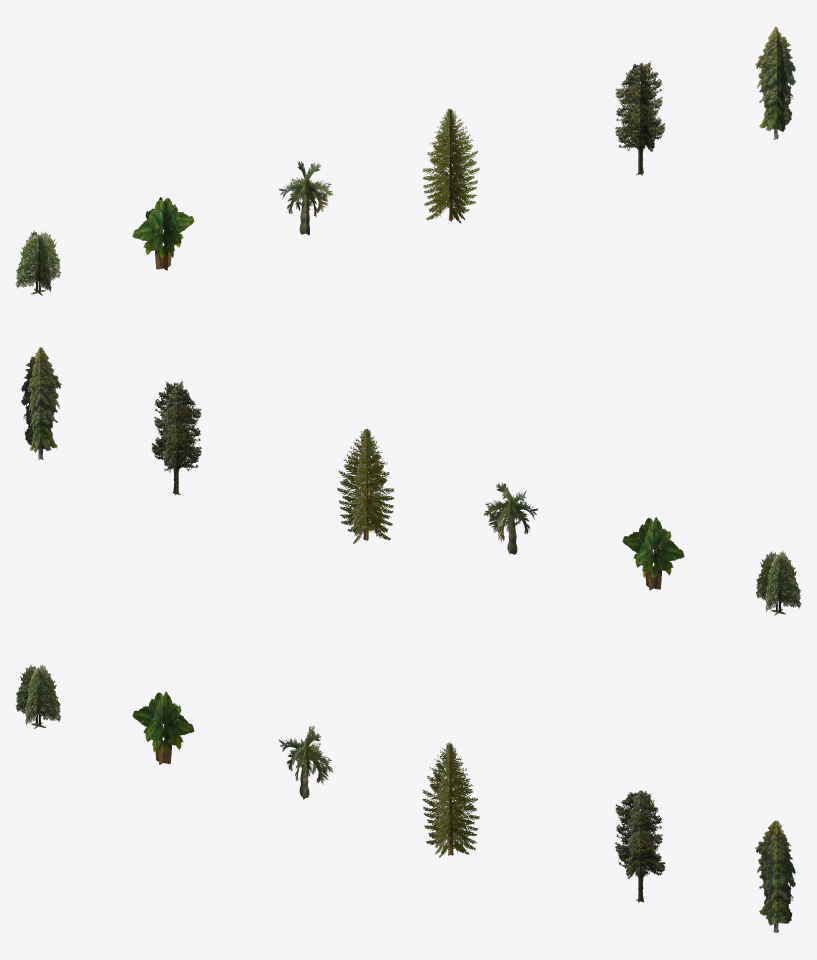
Rendered from Tree.fbx.
3 views of the same model, one above another, from view 1: azimuth 30°, elevation 25°; view 2: azimuth 150°, elevation 25°; view 3: azimuth 330°, elevation 25° (orthographic).
Parts seen in each view (by area): view 1: polySurface9, polySurface39, polySurface40, polySurface23, polySurface31, polySurface17; view 2: polySurface9, polySurface39, polySurface40, polySurface23, polySurface31, polySurface17; view 3: polySurface9, polySurface39, polySurface40, polySurface23, polySurface31, polySurface17.
Part boxes in pixels (box(x1,y1,x2,y2)): polySurface9: box(422, 108, 479, 223); polySurface39: box(615, 61, 665, 175); polySurface40: box(755, 26, 795, 139); polySurface23: box(132, 197, 194, 270); polySurface31: box(15, 230, 60, 295); polySurface17: box(278, 161, 333, 235); polySurface9: box(337, 429, 394, 543); polySurface39: box(151, 379, 201, 495); polySurface40: box(21, 347, 61, 460); polySurface23: box(622, 517, 684, 590); polySurface31: box(756, 550, 801, 615); polySurface17: box(483, 482, 538, 554); polySurface9: box(422, 742, 479, 857); polySurface39: box(615, 790, 665, 902); polySurface40: box(755, 820, 795, 932); polySurface23: box(132, 691, 194, 764); polySurface31: box(15, 663, 60, 728); polySurface17: box(278, 725, 333, 799).
Bounding box in the file's own units: 4383 × 615 × 364.
